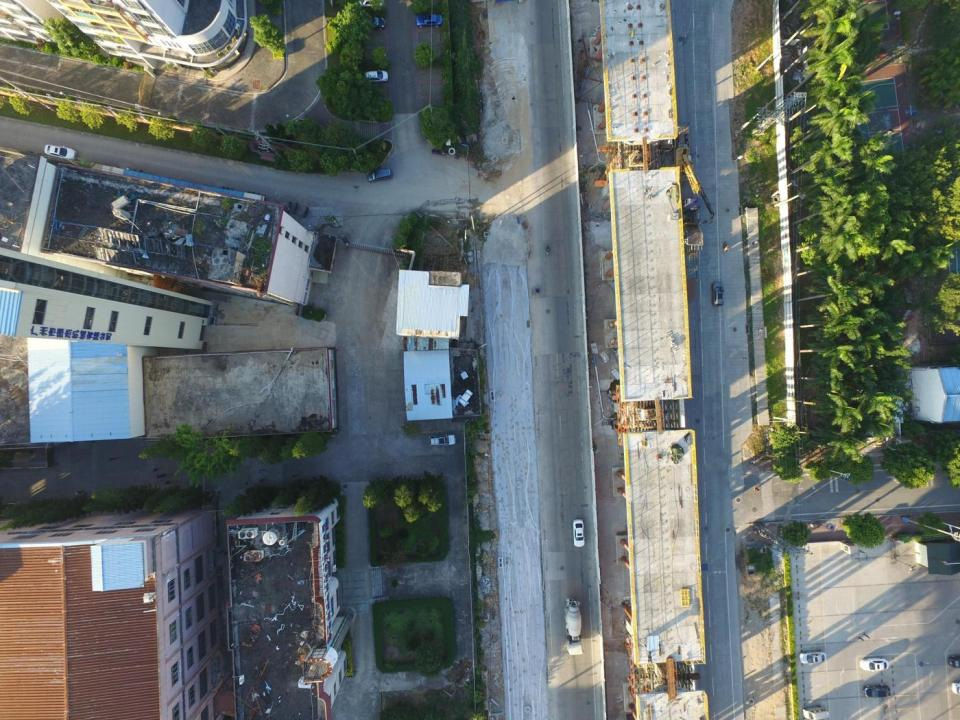car: (44, 143, 76, 160), (859, 656, 890, 672), (862, 683, 892, 699), (362, 68, 390, 84), (426, 433, 457, 447), (416, 12, 442, 28), (359, 15, 386, 30), (710, 281, 726, 306), (798, 650, 826, 664), (572, 518, 585, 548), (357, 0, 384, 9)
truck: (684, 197, 702, 280), (563, 597, 584, 654)
van: (802, 704, 829, 720), (367, 167, 392, 184)
